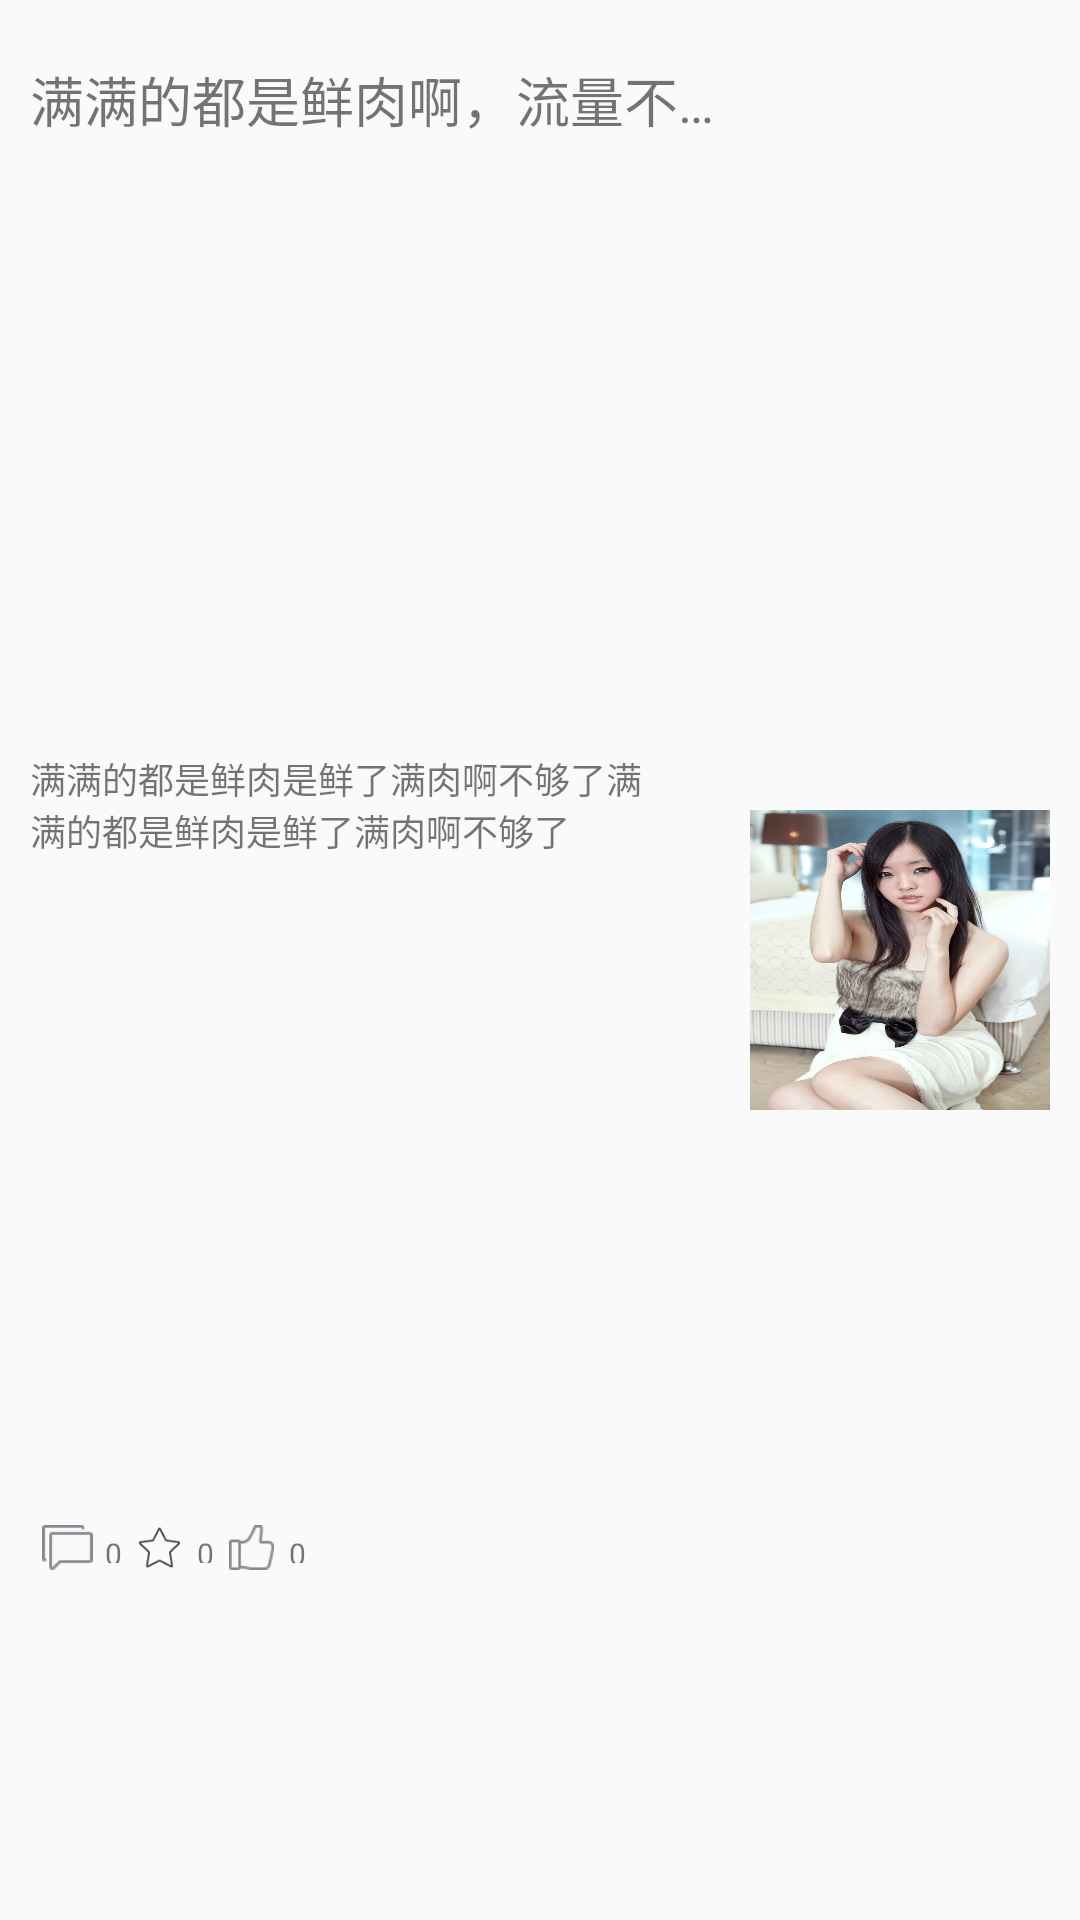

Named icons in this screenshot (1080×1920) and their bounding boxes, (x1=x1, y1=y1, x2=x2, y2=y2):
message comment: (x1=42, y1=1525, x2=93, y2=1570)
message praise: (x1=229, y1=1525, x2=274, y2=1570)
navbar fav: (x1=139, y1=1527, x2=180, y2=1568)
